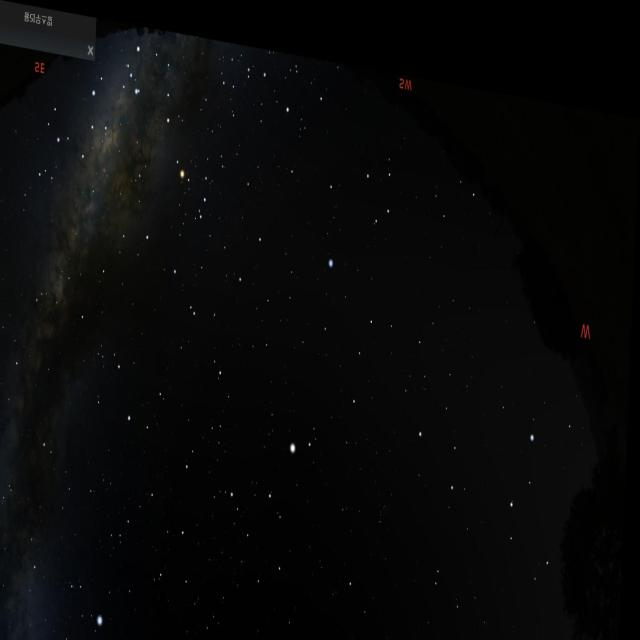aquila: (0, 268, 64, 449)
bootes: (238, 390, 334, 594)
leo: (408, 382, 568, 561)
lyra: (68, 570, 109, 638)
sagittarius: (28, 54, 121, 199)
scorpius: (117, 30, 225, 245)
